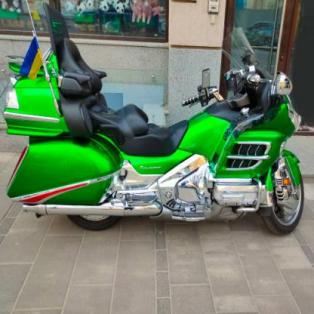Motocicleta: (5, 33, 308, 236)
